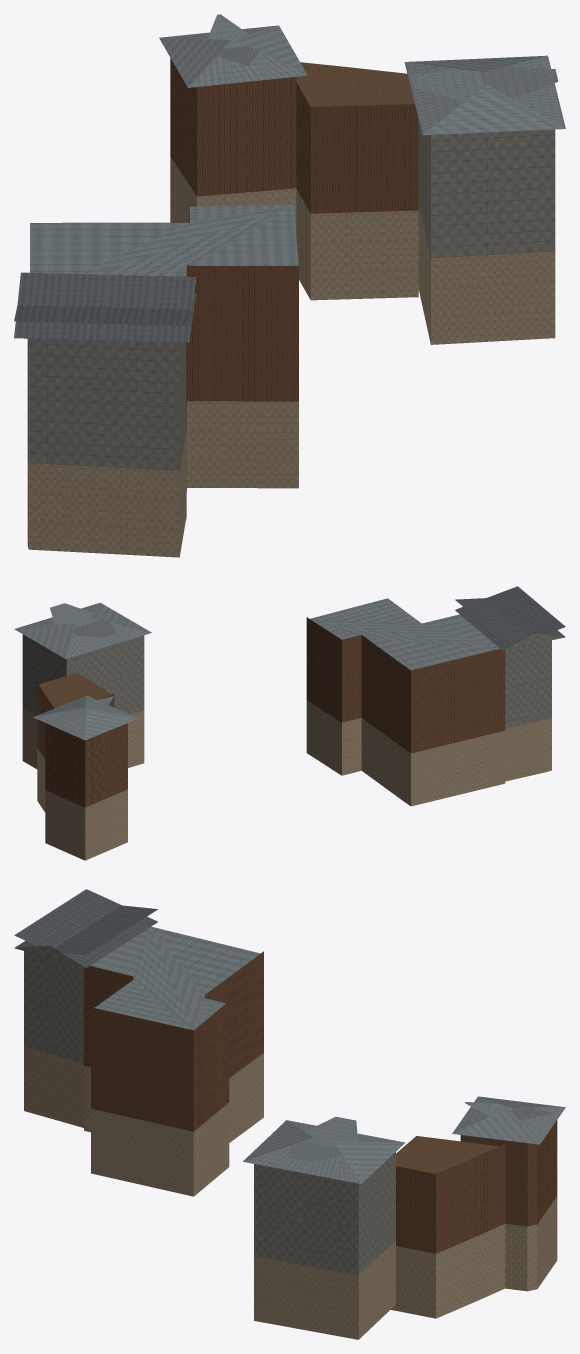
File: bld_c35_-29_449.gltf
The picture shows the model from 3 angles, top to bottom: view 1: azimuth 30°, elevation 25°; view 2: azimuth 150°, elevation 25°; view 3: azimuth 270°, elevation 25°; orthographic projection. The views are drawn at different scales.
Parts seen in each view (by area): view 1: bld_c35_-29_449; view 2: bld_c35_-29_449; view 3: bld_c35_-29_449.
Part boxes in pixels (x1=…): bld_c35_-29_449: x1=14, y1=14, x2=565, y2=557; bld_c35_-29_449: x1=14, y1=586, x2=565, y2=860; bld_c35_-29_449: x1=14, y1=889, x2=565, y2=1339.
Size of the model in its own units: 44.23 by 15.7 by 39.36.
8 materials, 8 textured.
